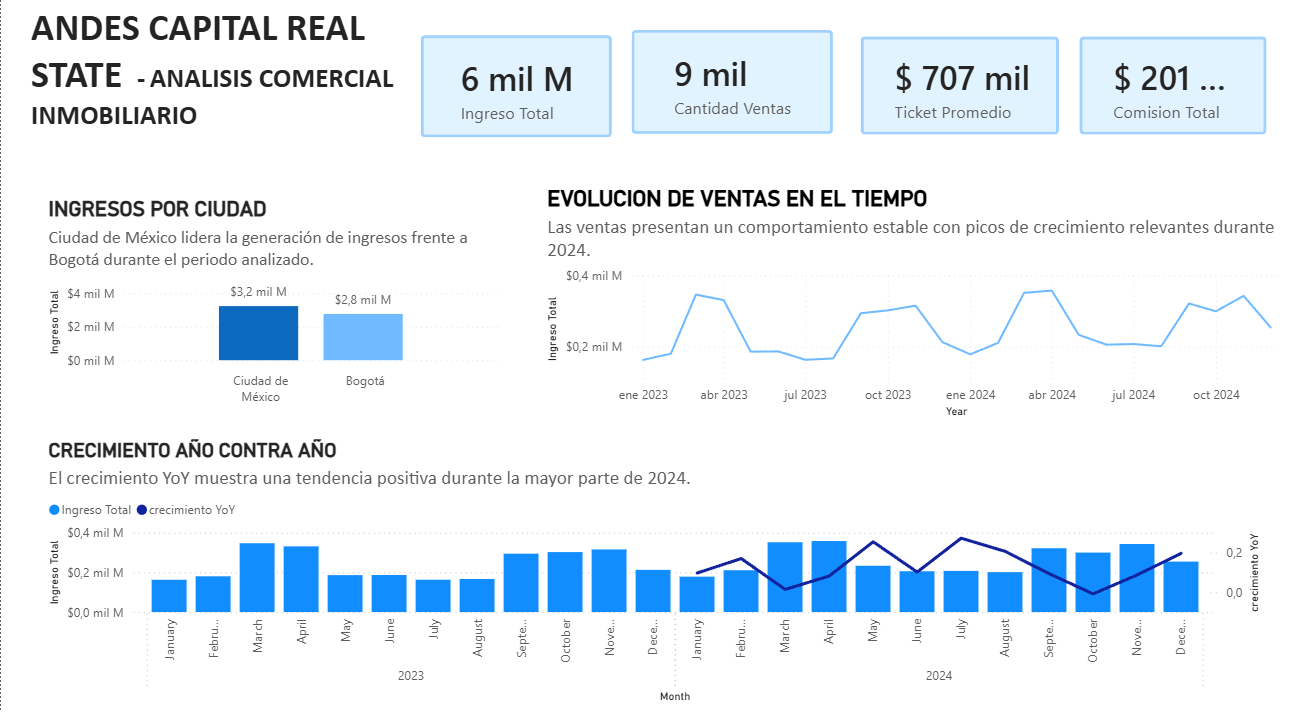

This screenshot's page, from the dashboard's own definition file:
{"tool":"powerbi","page":{"name":"Overview","canvas":[1280,720],"ordinal":0},"visuals":[{"type":"cardVisual","fields":{"Data":["hecho_ventas_propiedades.ingreso total"]},"box":[393.8,34.2,221.3,134.5],"z":0},{"type":"cardVisual","fields":{"Data":["hecho_ventas_propiedades.cantidad ventas"]},"box":[606.5,35.5,217.7,122.3],"z":1000},{"type":"cardVisual","fields":{"Data":["hecho_ventas_propiedades.ticket promedio"]},"box":[824.2,35.5,228.7,130.8],"z":2000},{"type":"cardVisual","fields":{"Data":["hecho_ventas_propiedades.comision total"]},"box":[1037.8,36,217.2,130.6],"z":3000},{"type":"lineChart","title":"EVOLUCION DE VENTAS EN EL TIEMPO","fields":{"Y":["hecho_ventas_propiedades.ingreso total"],"Category":["Dim_fecha.Año mes.Variation.Date Hierarchy.Year","Dim_fecha.Año mes.Variation.Date Hierarchy.Month"]},"box":[528.9,198.5,740.7,231.8],"z":4000},{"type":"clusteredColumnChart","title":"INGRESOS POR CIUDAD","fields":{"Y":["hecho_ventas_propiedades.ingreso total"],"Category":["hecho_ventas_propiedades.ciudad"]},"box":[41.3,209.2,453,210.5],"z":5000},{"type":"lineClusteredColumnComboChart","title":"CRECIMIENTO AÑO CONTRA AÑO","fields":{"Y":["hecho_ventas_propiedades.ingreso total"],"Category":["Dim_fecha.Año mes.Variation.Date Hierarchy.Year","Dim_fecha.Año mes.Variation.Date Hierarchy.Month"],"Y2":["dim_propiedades.crecimiento YoY"]},"box":[41.3,446.3,1196.3,262.4],"z":6000},{"type":"textbox","box":[24,16,370.4,170.5],"z":7000}]}

Visuals, with their boxes on the page's 1280x720 design canvas (x1, y1, x2, y2). These are canvas units, not pixel positions in the 1305x712 screenshot, which may show the page scaled, cropped or inside an application window:
cardVisual - hecho_ventas_propiedades.ingreso total: 394,34,615,169
cardVisual - hecho_ventas_propiedades.cantidad ventas: 606,36,824,158
cardVisual - hecho_ventas_propiedades.ticket promedio: 824,36,1053,166
cardVisual - hecho_ventas_propiedades.comision total: 1038,36,1255,167
"EVOLUCION DE VENTAS EN EL TIEMPO" lineChart: 529,198,1270,430
"INGRESOS POR CIUDAD" clusteredColumnChart: 41,209,494,420
"CRECIMIENTO AÑO CONTRA AÑO" lineClusteredColumnComboChart: 41,446,1238,709
textbox: 24,16,394,186
